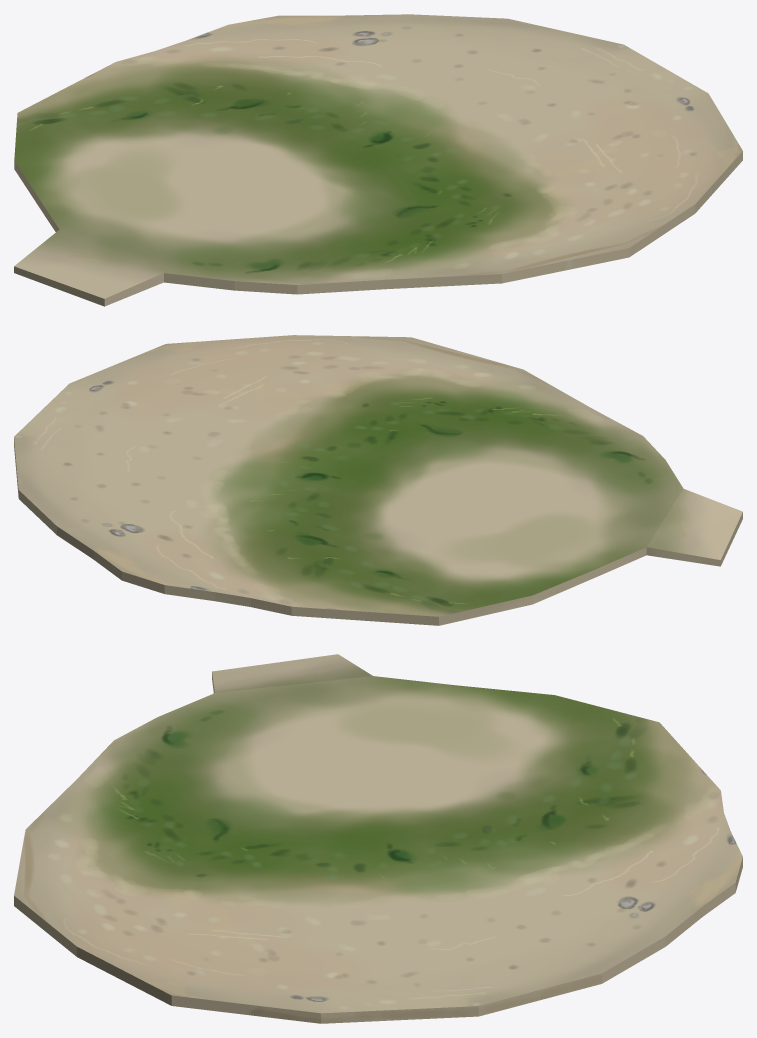
Rendered from lorikeetHab.fbx.
3 views of the same model, one above another, from view 1: azimuth 30°, elevation 25°; view 2: azimuth 150°, elevation 25°; view 3: azimuth 270°, elevation 25° (orthographic). The views are drawn at different scales.
Visible parts, largest first — view 1: lorikeet habitat; view 2: lorikeet habitat; view 3: lorikeet habitat.
Part boxes in pixels (box(x1,y1,x2,y2)): lorikeet habitat: box(14, 14, 742, 306); lorikeet habitat: box(14, 335, 742, 625); lorikeet habitat: box(14, 654, 742, 1023).
Bounding box in the file's own units: 4646 × 115 × 3855.
Materials: 1 (1 with a texture image).
